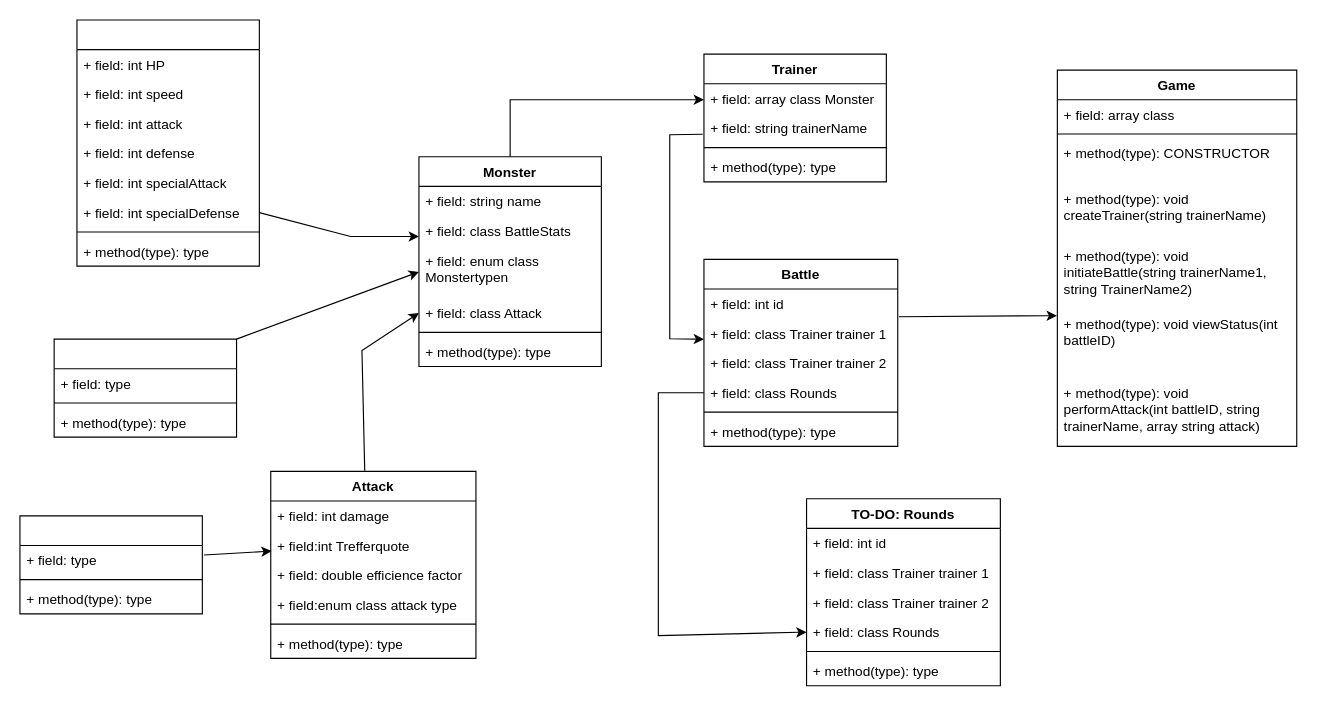
Image size: 1317x709. Some labels were removed from this diagram. The box of each missing label's shape, as (x1, y1, x2, y2) in pixels:
attack type: (19, 515, 202, 614)
BattleStats: (76, 19, 259, 266)
monster type: (53, 338, 237, 437)
